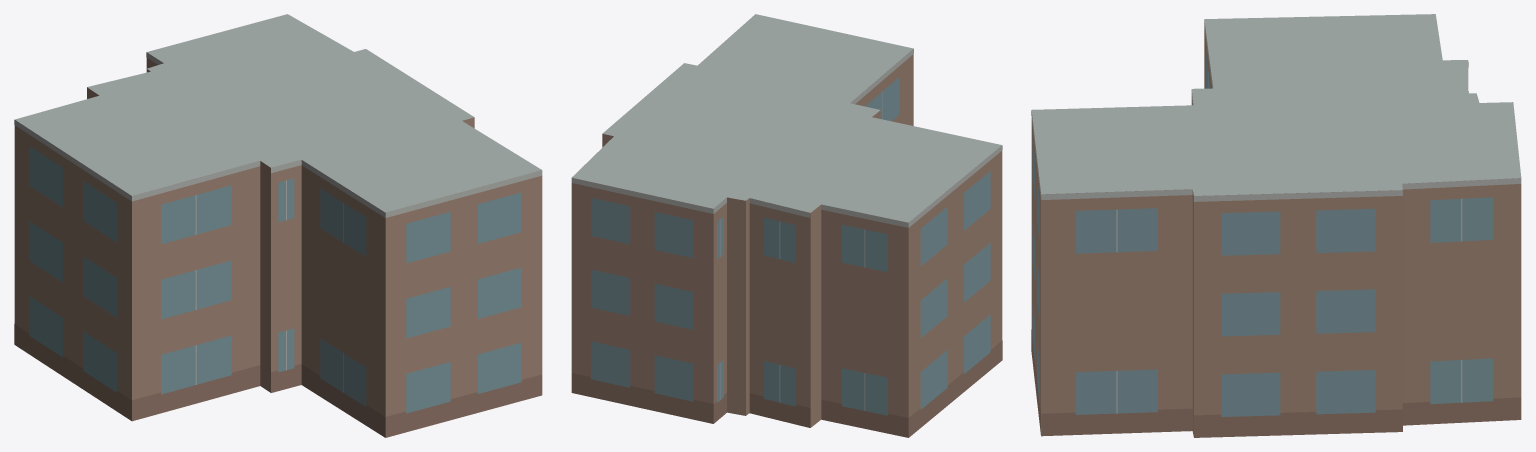
File: survey-upis-32482021.glb
The picture shows the model from 3 angles, left to right: view 1: azimuth 30°, elevation 25°; view 2: azimuth 150°, elevation 25°; view 3: azimuth 270°, elevation 25°; orthographic projection. The views are drawn at different scales.
Visible parts, largest first — view 1: survey-upis-32482021.tmp; view 2: survey-upis-32482021.tmp; view 3: survey-upis-32482021.tmp.
Part boxes in pixels (x1,y1,x2,y2): survey-upis-32482021.tmp: [14, 14, 542, 437]; survey-upis-32482021.tmp: [571, 14, 1002, 437]; survey-upis-32482021.tmp: [1031, 14, 1521, 437].
Bounding box in the file's own units: 16.31 × 10.1 × 18.55.
